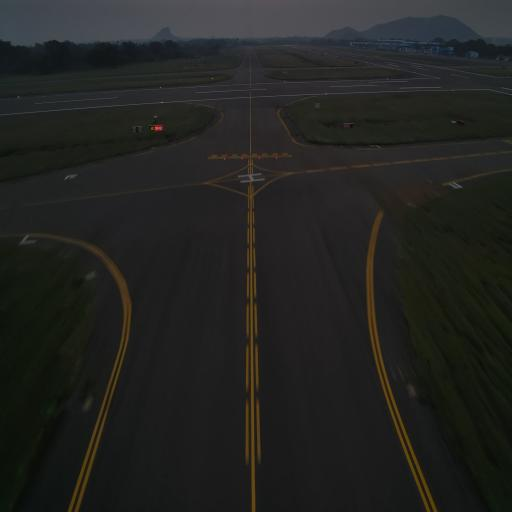on: (222, 155, 227, 163), (258, 153, 262, 163), (240, 154, 244, 162), (274, 154, 278, 162)
